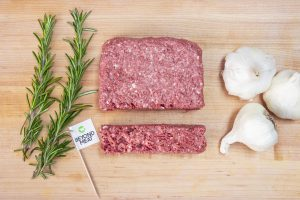ground_beef: (99, 31, 209, 113), (94, 119, 211, 159)
